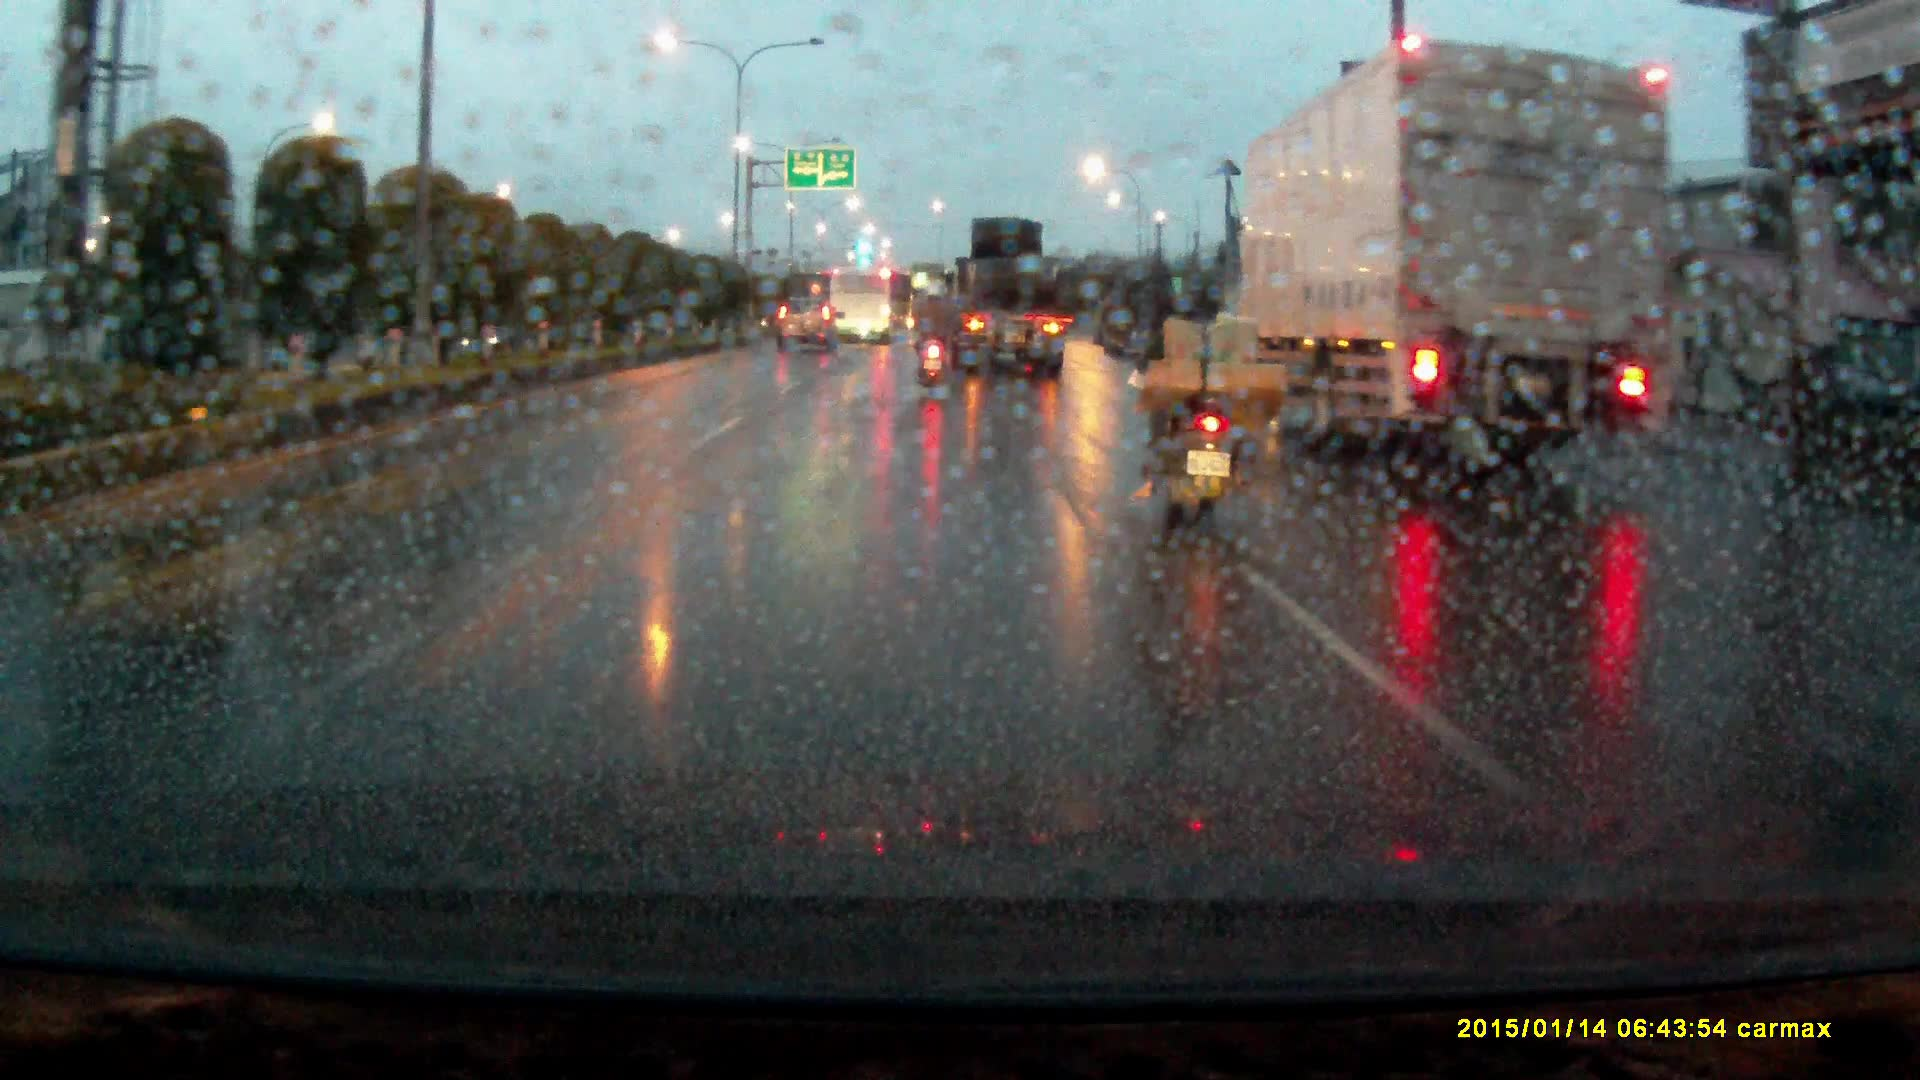rider: (1134, 253, 1290, 545), (913, 288, 955, 389)
vehicle: (1232, 36, 1677, 460), (936, 219, 1065, 377), (831, 266, 893, 342), (774, 291, 840, 351)
